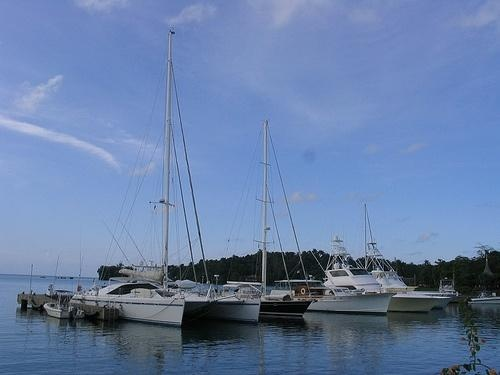boat: (68, 29, 259, 327), (256, 120, 311, 320), (327, 236, 440, 316), (274, 280, 396, 315), (43, 296, 87, 324)
